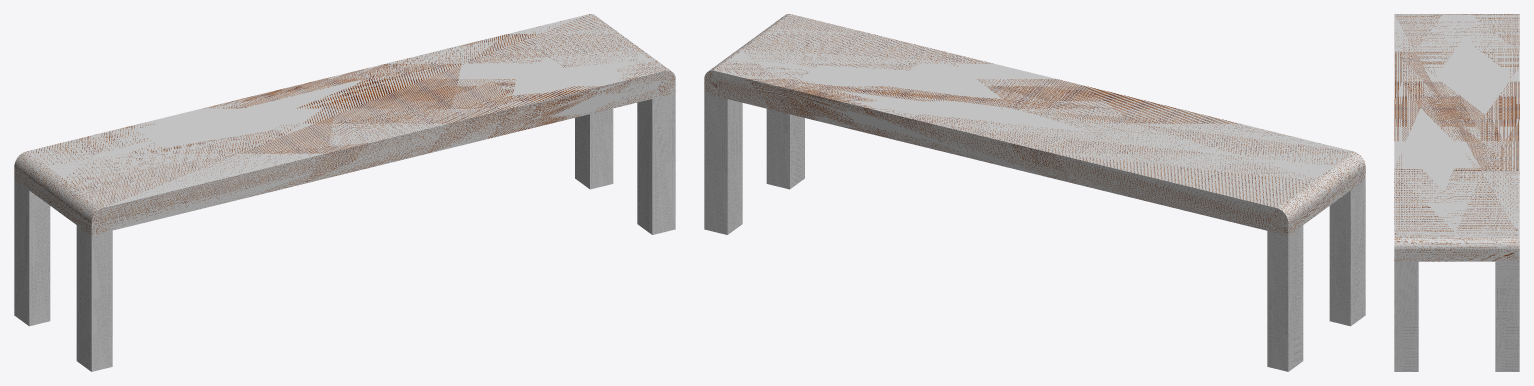
3 views of the same model, side by side, from view 1: azimuth 30°, elevation 25°; view 2: azimuth 150°, elevation 25°; view 3: azimuth 270°, elevation 25° (orthographic). The views are drawn at different scales.
Parts seen in each view (by area): view 1: mesh1_mesh1-geometry; view 2: mesh1_mesh1-geometry; view 3: mesh1_mesh1-geometry.
Part boxes in pixels (bbox=[...]): mesh1_mesh1-geometry: bbox=[14, 14, 675, 371]; mesh1_mesh1-geometry: bbox=[704, 14, 1365, 371]; mesh1_mesh1-geometry: bbox=[1394, 14, 1519, 371].
Bounding box in the file's own units: 0.9441 × 0.2488 × 0.2163.
